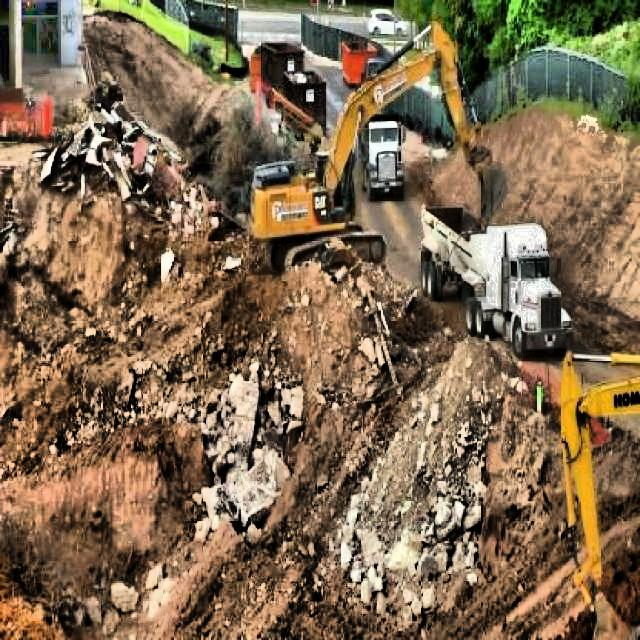dump_truck: (418, 204, 572, 356), (358, 120, 404, 200)
excavator: (252, 16, 508, 272), (558, 344, 639, 640)
